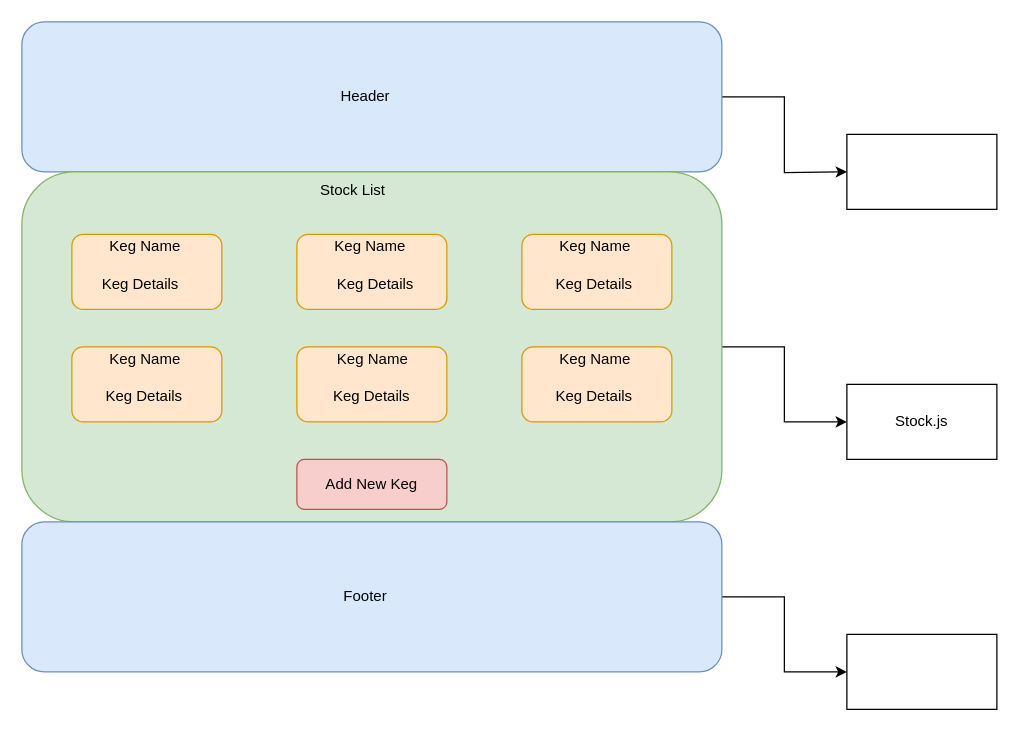
The diagram is 1019 pixels wide and 731 high, and some of its shapes have lost their labels. Each missing label, with the box of its shape:
Footer.js: (846, 633, 997, 709)
Header.js: (846, 133, 997, 209)
